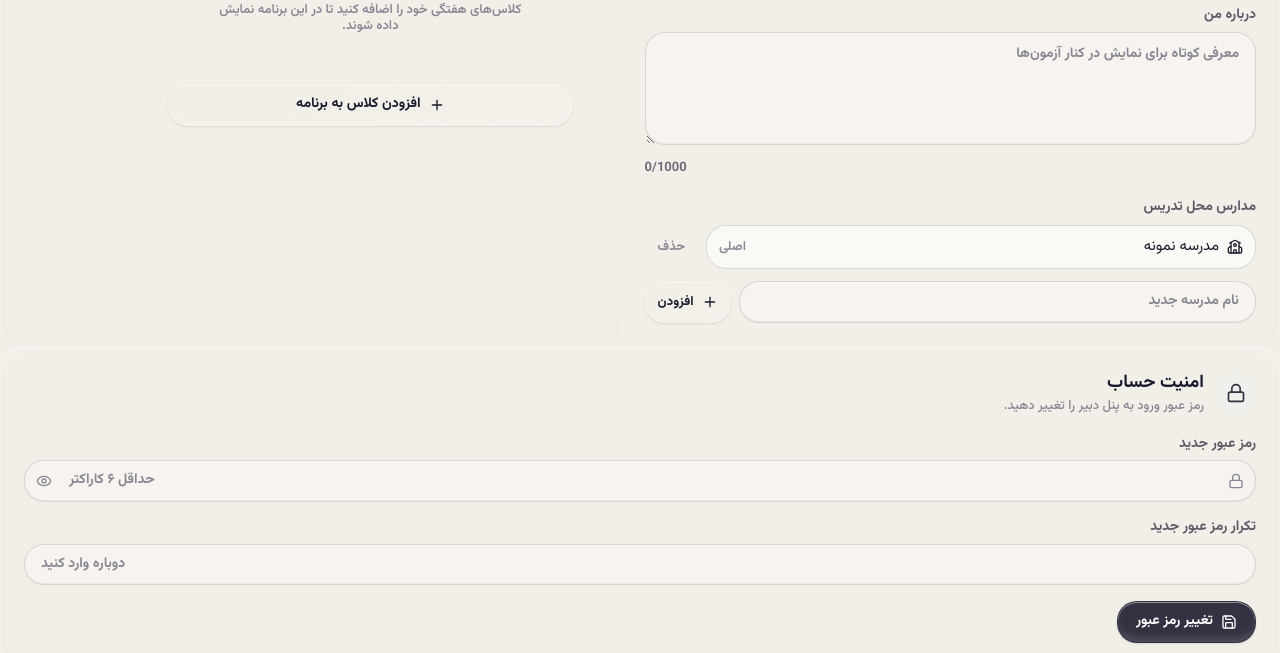
Test case: TeacherProfile draft integrity › changes the password through supabase.auth.updateUser and clears the fields
This screenshot has width=1280, height=653.
(page scrolled)
In the password field labelled "رمز عبور جدید": (640, 481) [24,460,1256,502], type "secret123"
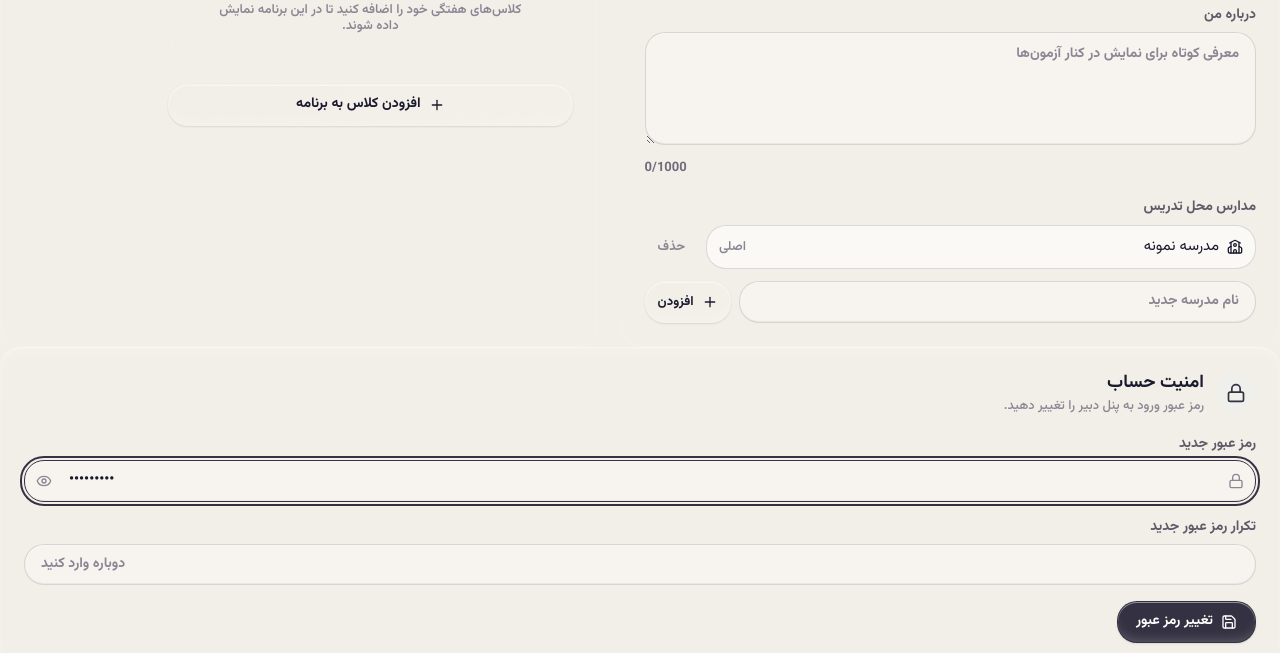
In the password field labelled "تکرار رمز عبور جدید": (640, 564) [24,544,1256,585], type "secret123"
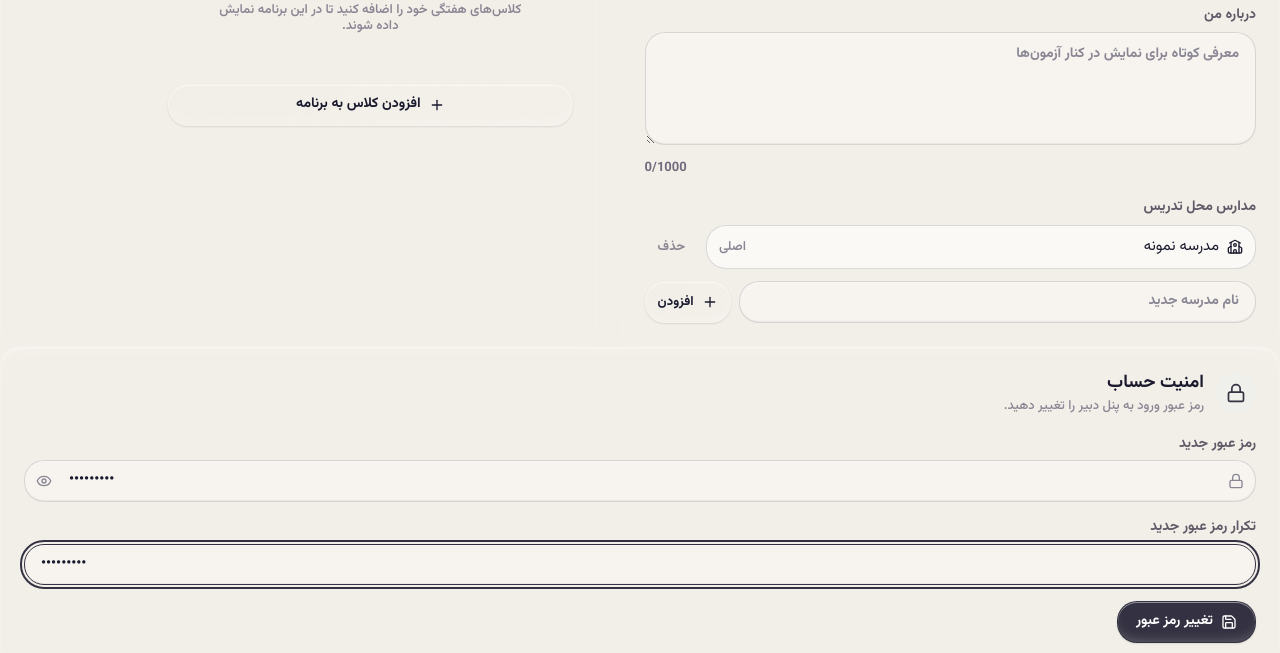
Click the button "تغییر رمز عبور": (1186, 622) [1117,601,1256,643]
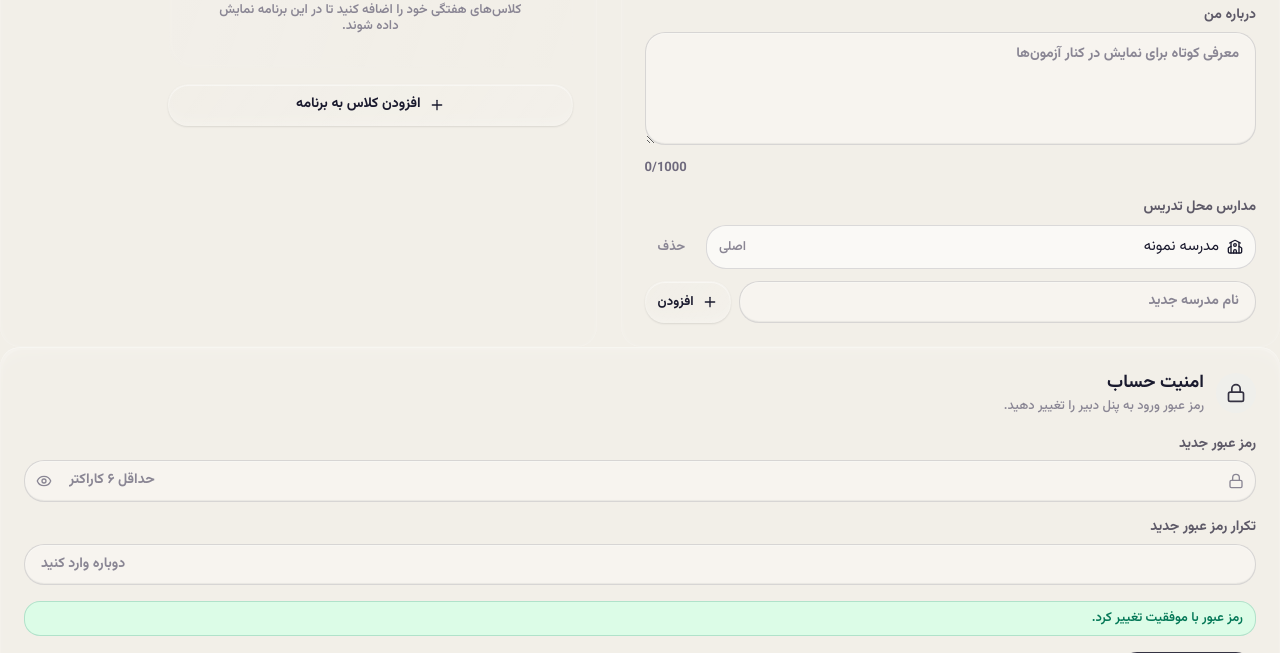
Expected: the message shows "با موفقیت تغییر کرد", [1092,608,1243,628]
Expected: the password field labelled "رمز عبور جدید" is empty, [24,460,1256,502]
Expected: the password field labelled "تکرار رمز عبور جدید" is empty, [24,544,1256,585]
